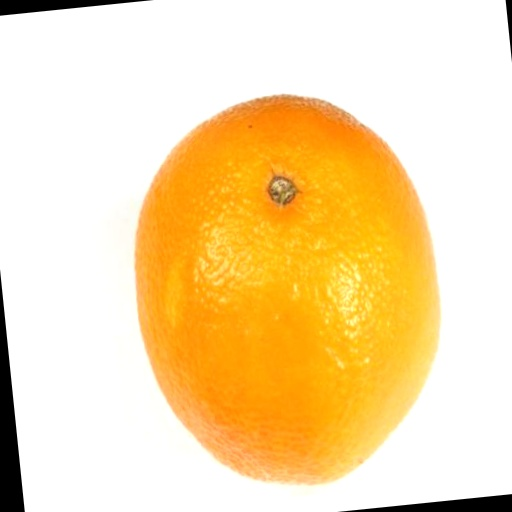fruit: (136, 95, 440, 483)
